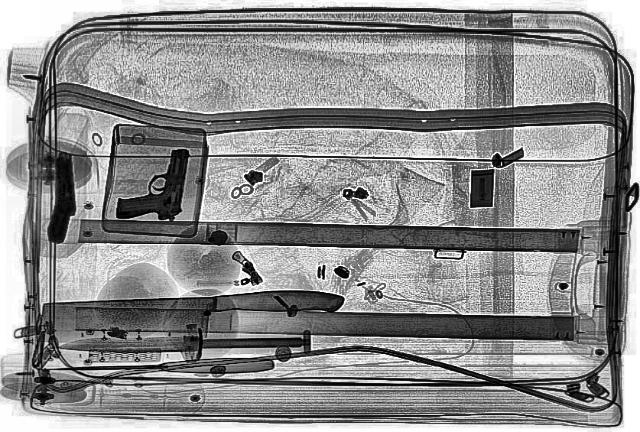Gun: (115, 145, 189, 221), (45, 152, 79, 242)
Knife: (36, 288, 344, 342), (38, 356, 274, 376), (60, 334, 302, 352)
